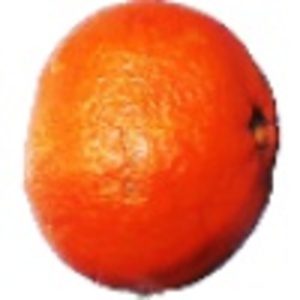tangerina: (20, 1, 283, 300)
